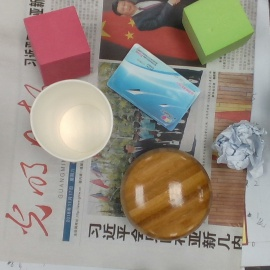card: (107, 43, 202, 134)
chess: (119, 148, 215, 243)
cup: (30, 79, 118, 168)
